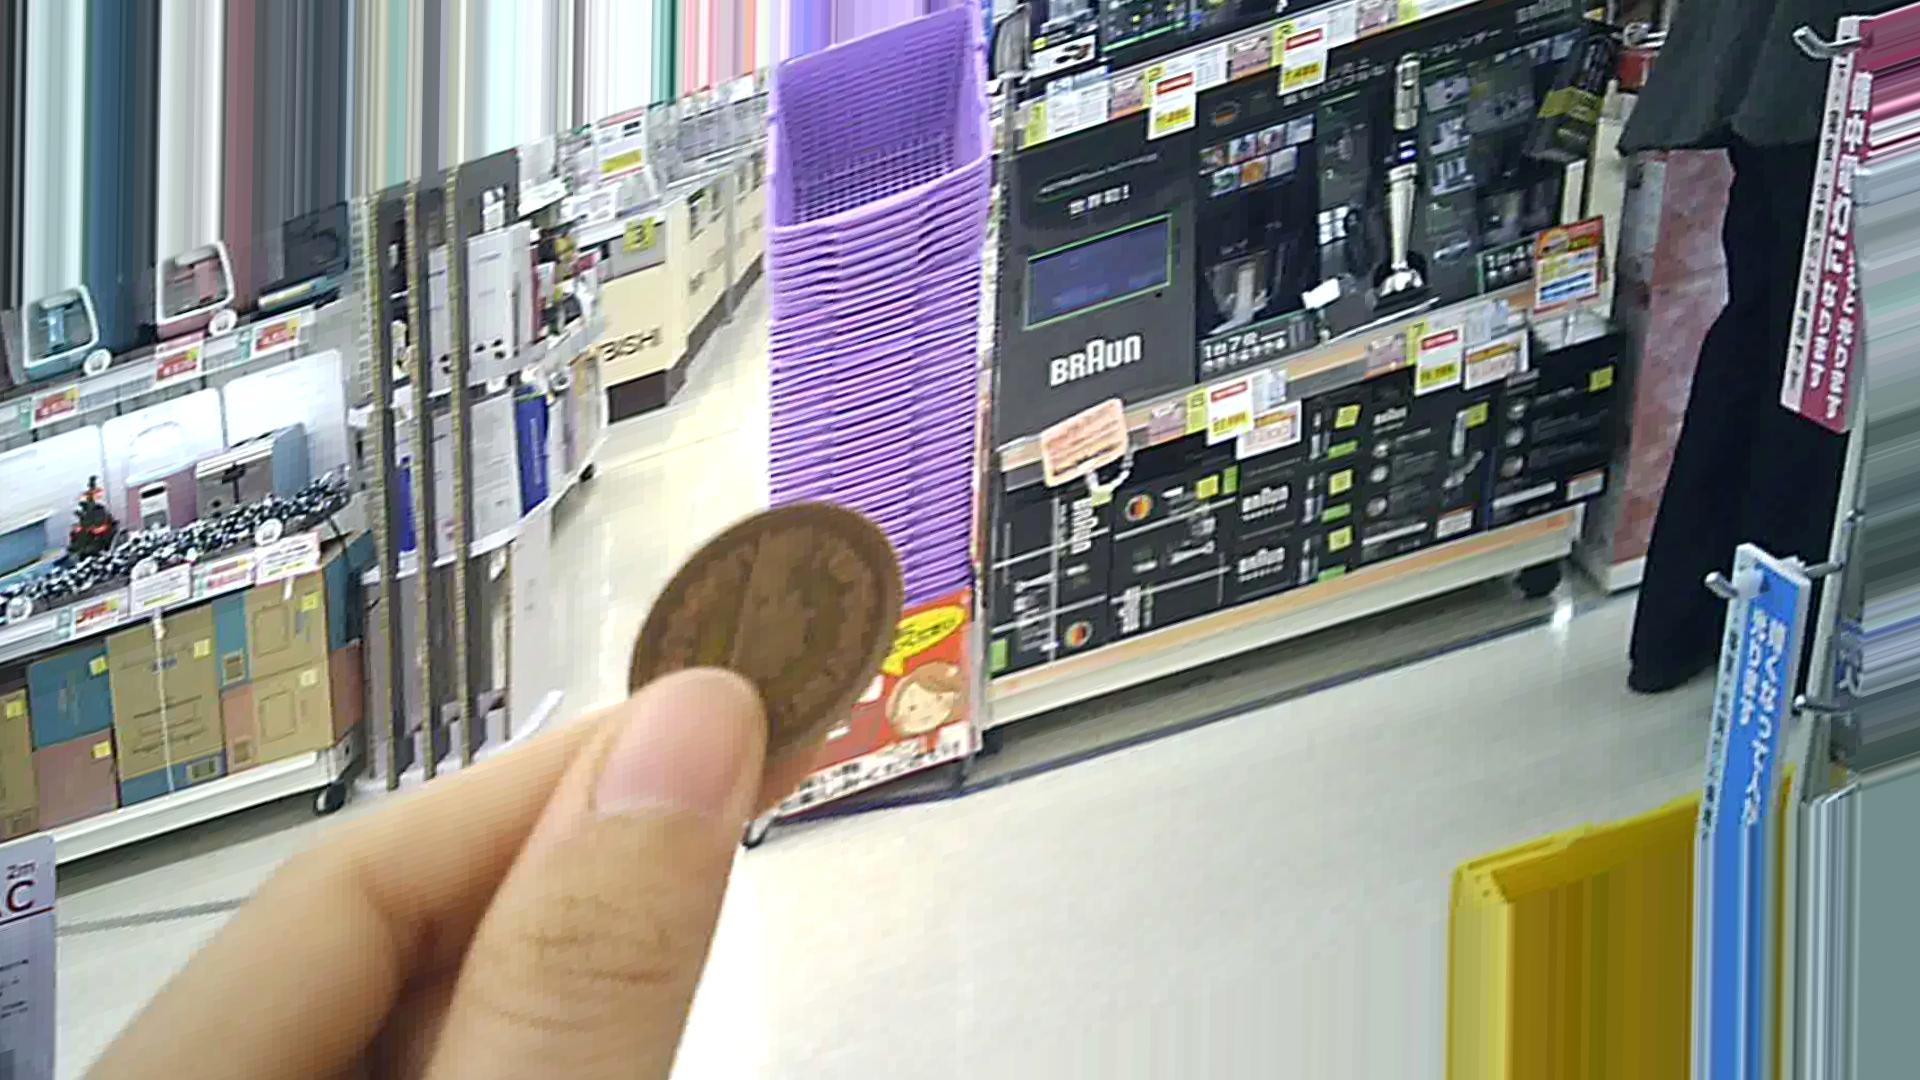10 Yen: (597, 510, 897, 790)
